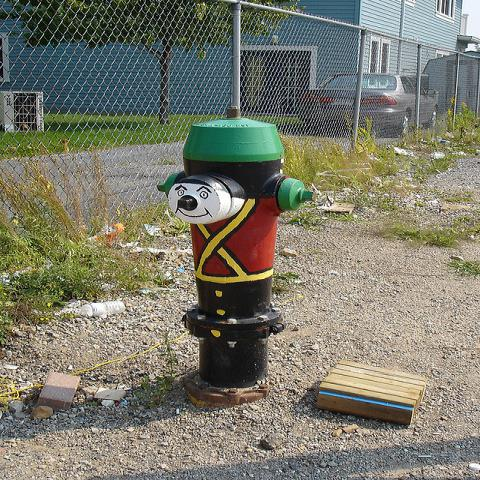car: (295, 74, 439, 134)
